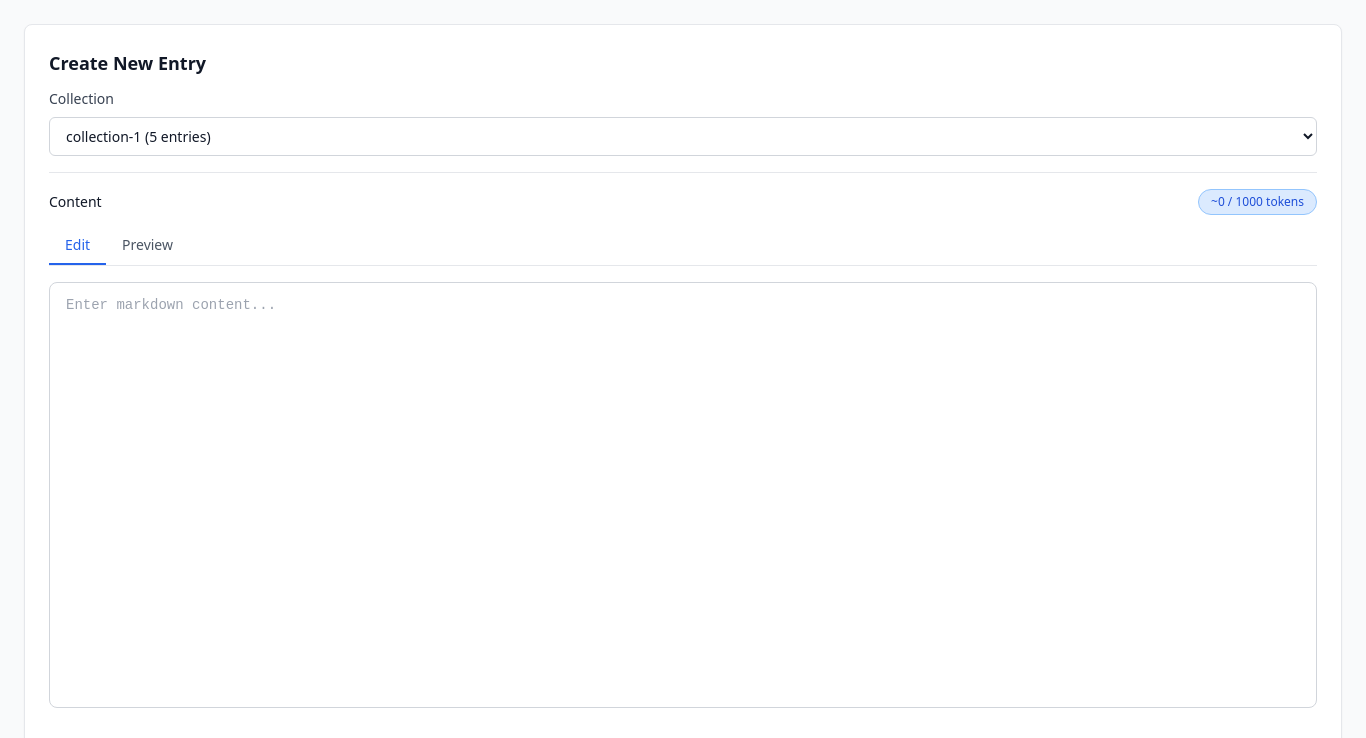
it: ArticleEditor › State Management › should preserve text changes when switching tabs
Type "Test content" into the text box with placeholder "Enter markdown content..." at point(683, 495), box [49, 282, 1317, 708]
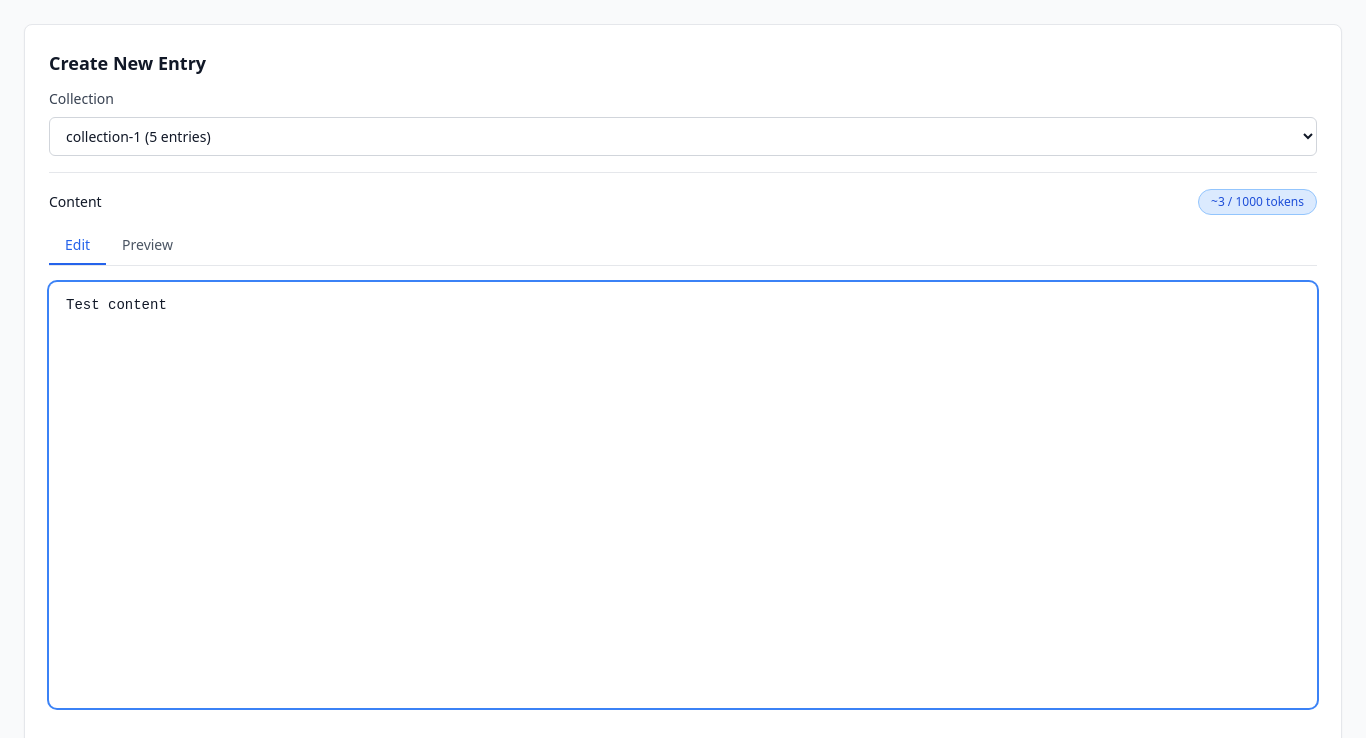
Click the tab "Preview" at point(148, 246), box [106, 227, 189, 265]
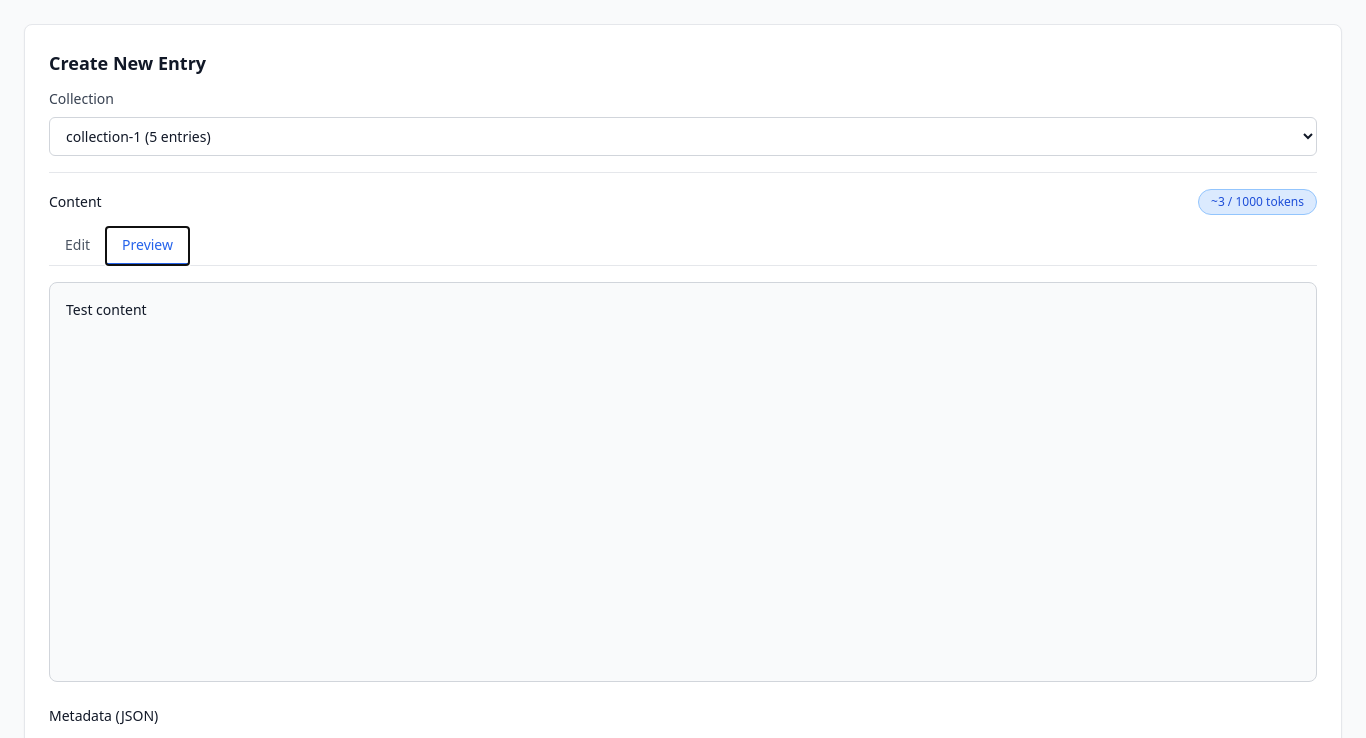
Click the tab "Edit" at point(78, 246), box [49, 227, 106, 265]
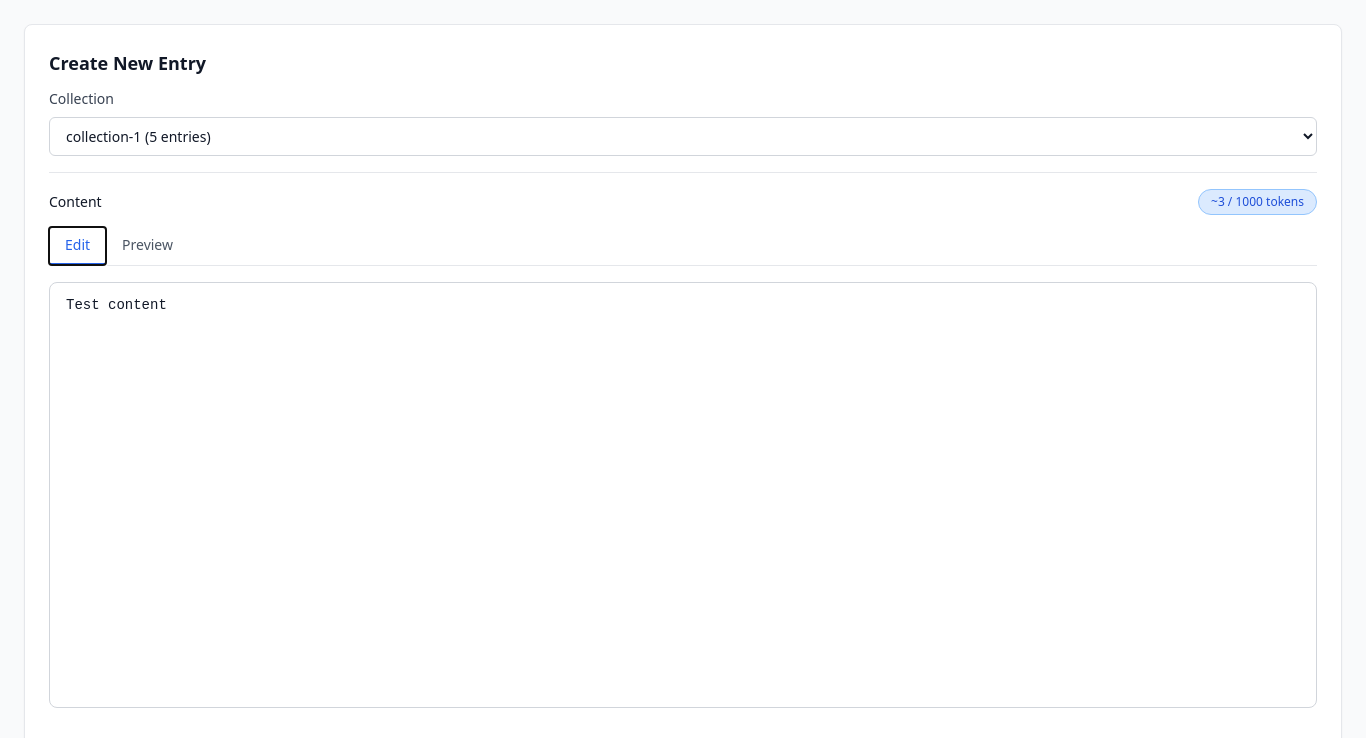
Result: the text box with placeholder "Enter markdown content..." holds "Test content" at [49, 282, 1317, 708]
